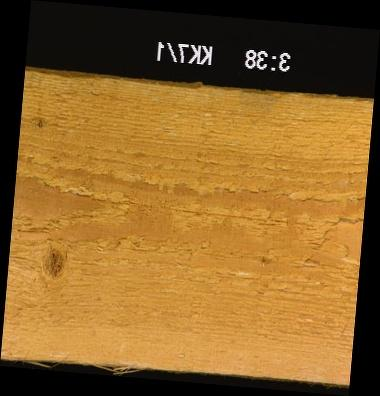small_knot: (257, 250, 271, 267), (37, 115, 43, 128)
sound_knot: (39, 239, 66, 281)
split: (165, 208, 288, 219), (14, 225, 46, 234)
wave: (24, 69, 373, 100)
